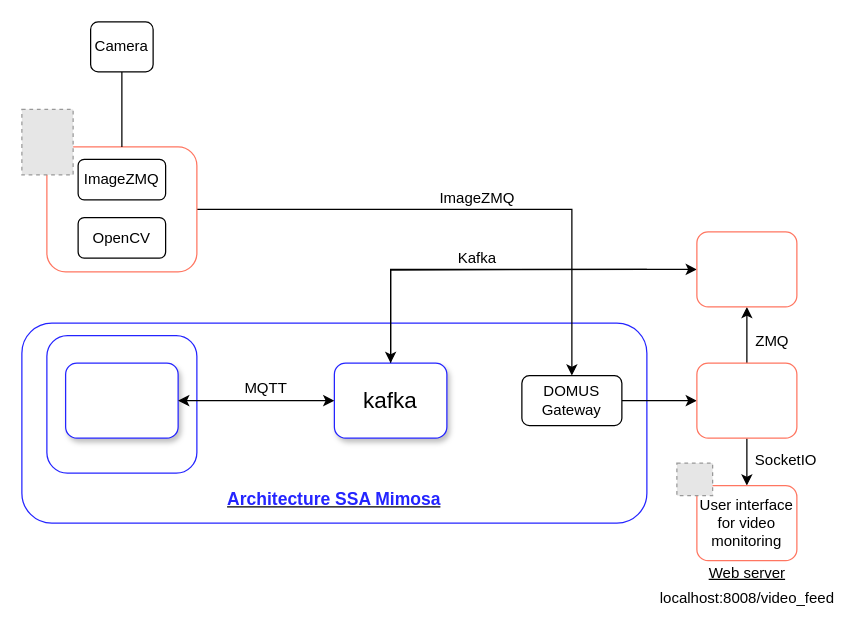
This 863x633 diagram has some shape labels left out. Grey dashed boxes stand in for pictures. Here are the shapes that lost their labels. From the top down, the centre of each, then its label:
point 746,269: Information Processing Service
point 122,402: MQTT Broker
point 746,400: Object Detection Service
